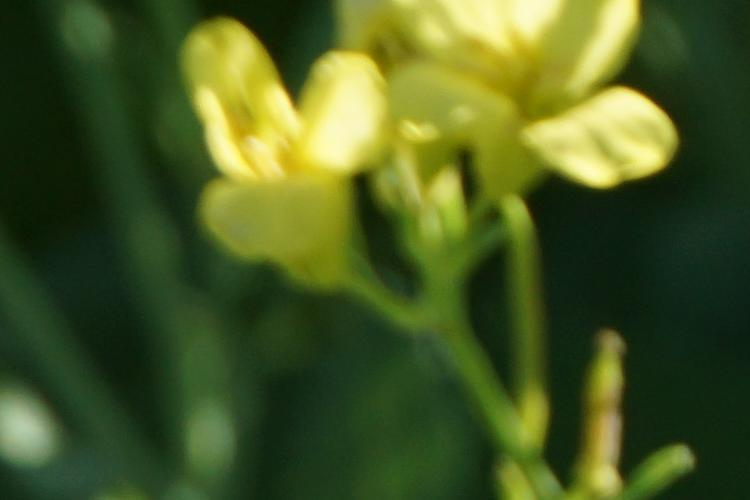yellow: (360, 16, 681, 196), (179, 34, 390, 292)
